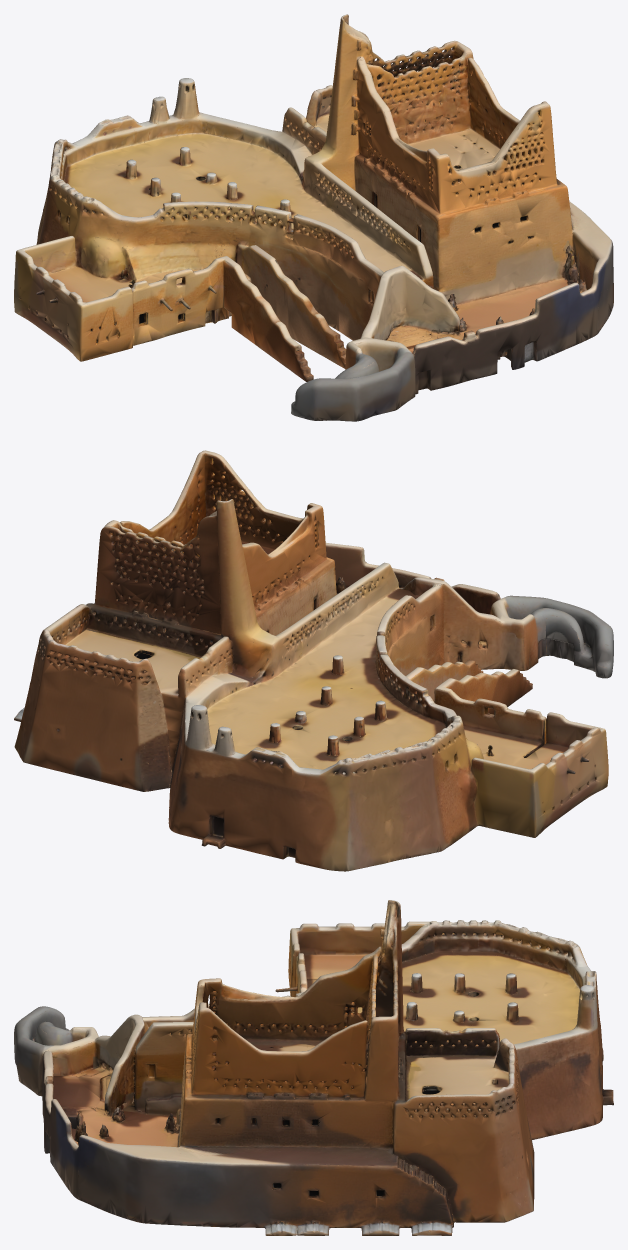
The picture shows the model from 3 angles, top to bottom: view 1: azimuth 30°, elevation 25°; view 2: azimuth 150°, elevation 25°; view 3: azimuth 270°, elevation 25°; orthographic projection. The views are drawn at different scales.
Visible parts, largest first — view 1: hadaq_focus; view 2: hadaq_focus; view 3: hadaq_focus.
Part boxes in pixels (x1,y1,x2,y2): hadaq_focus: (14,14,613,421); hadaq_focus: (14,450,613,871); hadaq_focus: (14,900,613,1235).
Bounding box in the file's own units: 62.49 × 28.1 × 62.34.
1 material, 1 textured.
